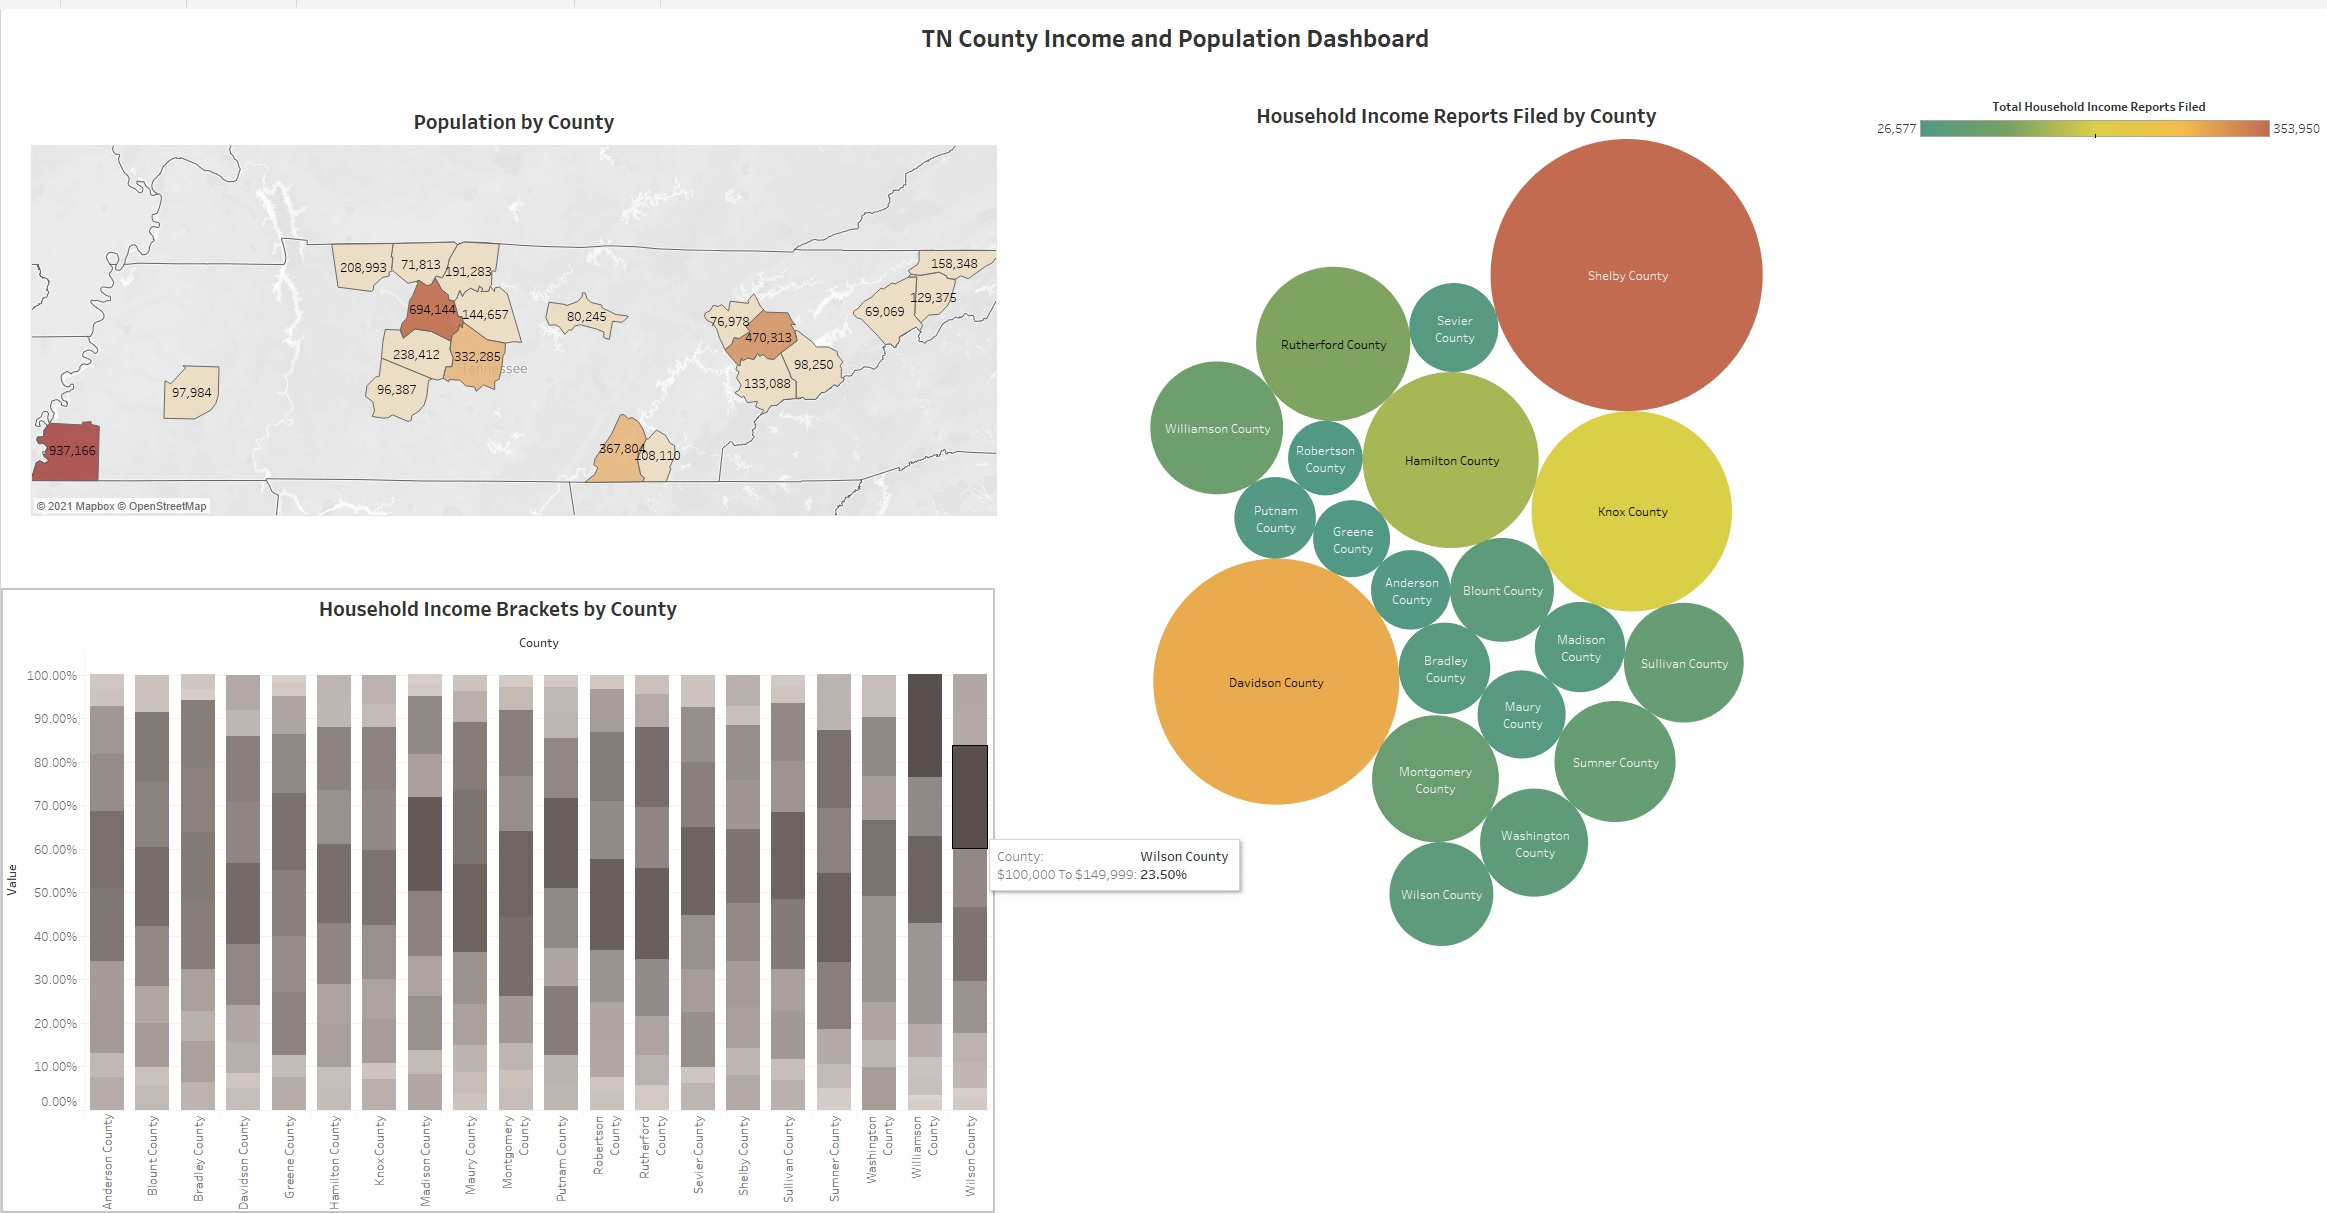

What the dashboard file says about the page in this screenshot:
{"tool":"tableau","page":{"name":"Dashboard 1","canvas":[1000,1000],"units":"permille","ordinal":0},"visuals":[{"type":"worksheet","box":[0,0,1000,1000]},{"type":"worksheet","param":"vert","box":[3.4,6.3,993.2,987.3]},{"type":"worksheet","box":[3.4,6.3,993.2,32.4]},{"type":"worksheet","box":[3.4,38.8,993.2,954.9]},{"type":"worksheet","title":"County Pop and Households","mark":"Circle","box":[447.9,69.6,450,671.7]},{"type":"worksheet","title":"County Pop and Households","mark":"Circle","param":"[federated.0qs53yd1twde6915cbzm411ahqlb].[sum:Total Income Reports Filed:qk]","box":[797,70.3,192.5,60]},{"type":"worksheet","title":"Map","mark":"Multipolygon","box":[12.9,74.5,411.4,326.8]},{"type":"worksheet","title":"Household Income Brackets By County","mark":"Automatic","cols":["COUNTY"],"box":[0.8,459.7,421.5,491.3]}]}

Visuals, with their boxes on the dashboard's canvas, which has no fixed pixel size, in thousandths of its width and height (x1, y1, x2, y2). These are canvas units, not pixel positions in the 2327x1213 screenshot, which may show the page scaled, cropped or inside an application window:
worksheet: select_region(0, 0, 1000, 1000)
worksheet: select_region(3, 6, 997, 994)
worksheet: select_region(3, 6, 997, 39)
worksheet: select_region(3, 39, 997, 994)
"County Pop and Households" worksheet (Circle marks): select_region(448, 70, 898, 741)
"County Pop and Households" worksheet (Circle marks): select_region(797, 70, 990, 130)
"Map" worksheet (Multipolygon marks): select_region(13, 74, 424, 401)
"Household Income Brackets By County" worksheet: select_region(1, 460, 422, 951)
